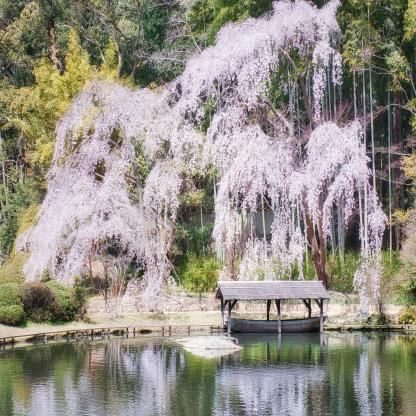ShidareZakura: (11, 0, 389, 322)
